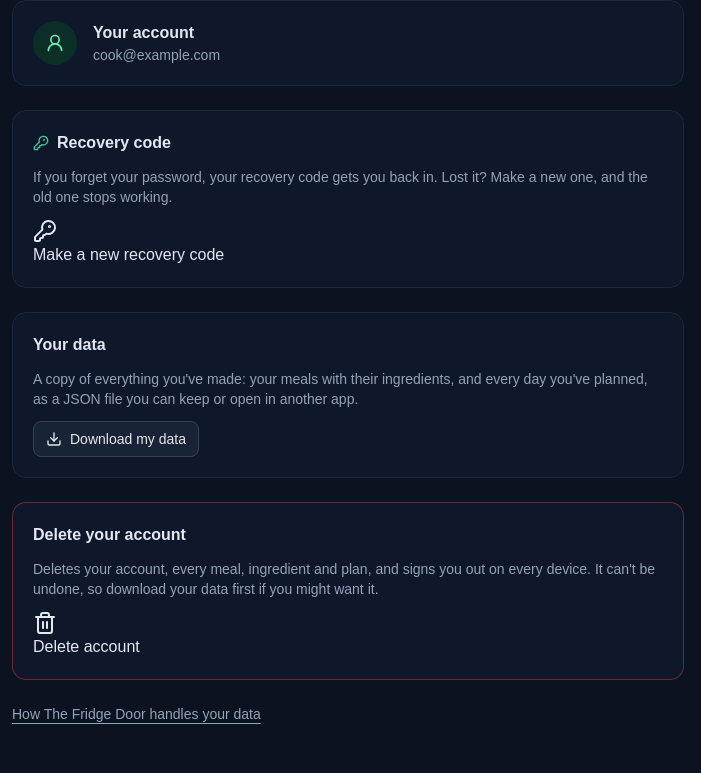
Test: downloading your data › says so when it fails
This screenshot has width=701, height=773.
Step 1. Click the button "Download my data" → (116, 439), box [33,421,199,457]
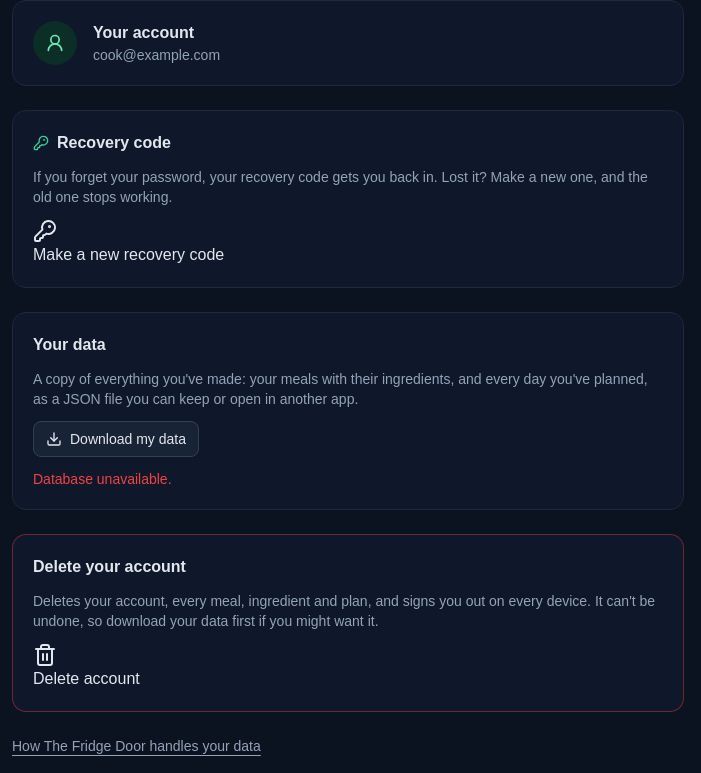
Result: the message reads "Database unavailable." at [33,471,172,487]
